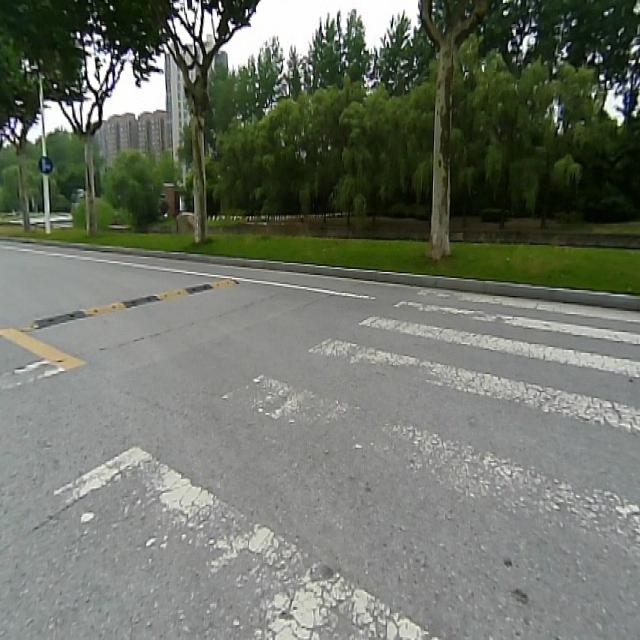Speed Bump: (29, 275, 240, 329)
